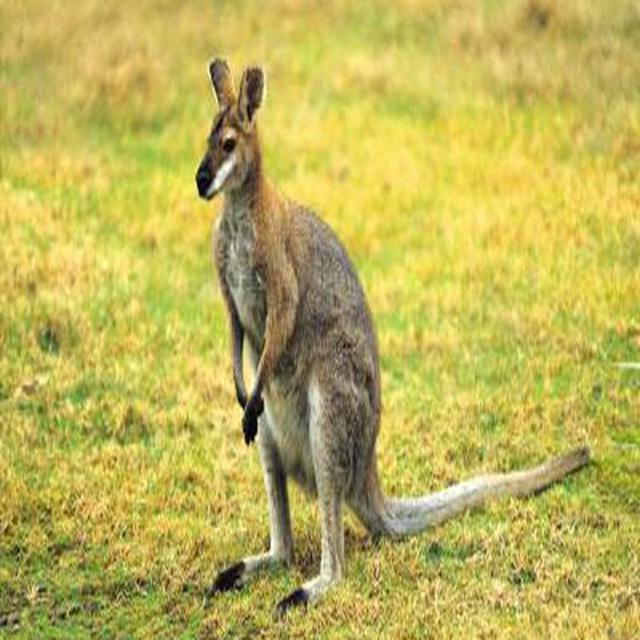kangaroo: (189, 57, 385, 576)
